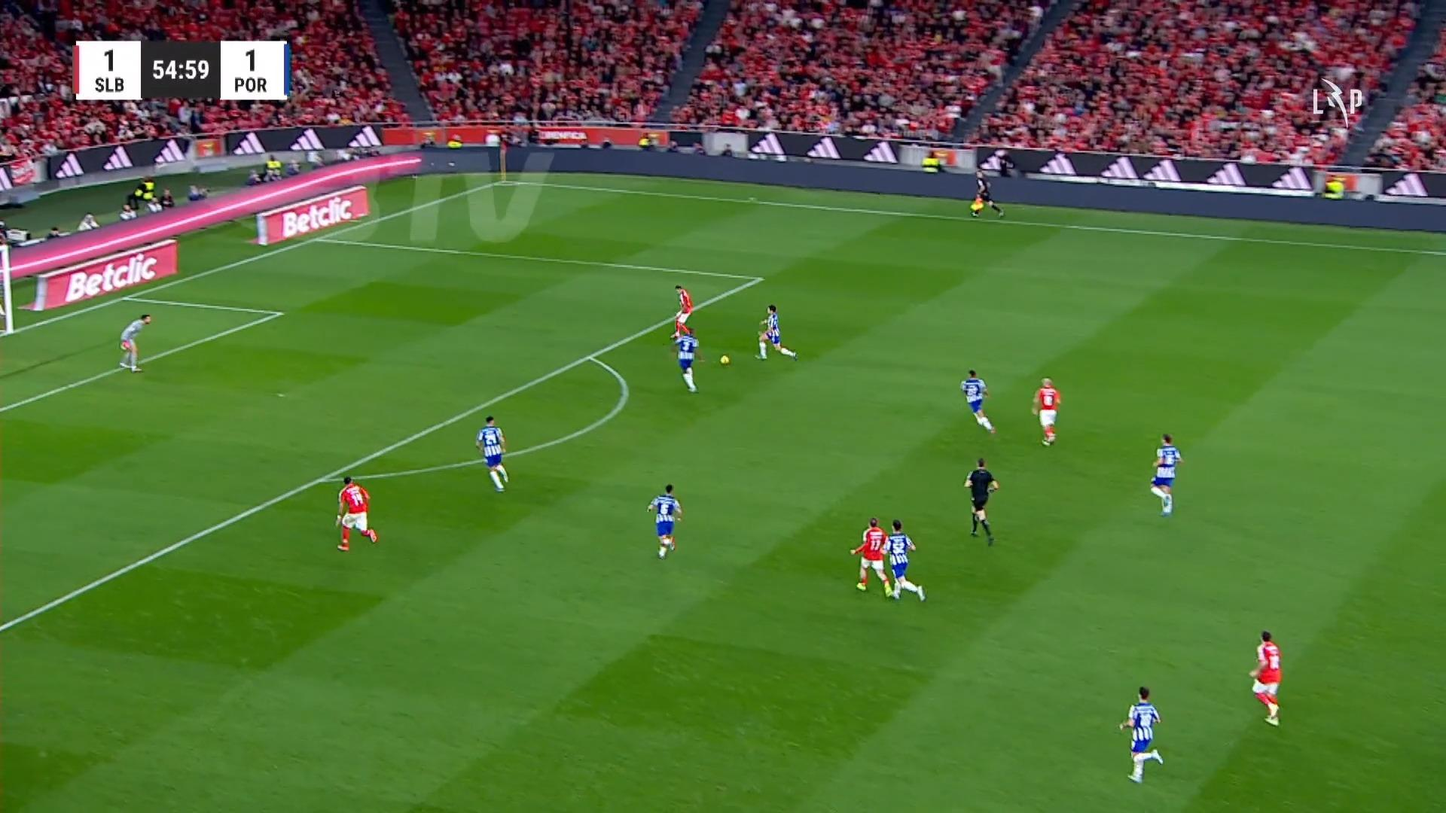ball: (719, 355, 729, 365)
goalkeeper: (117, 312, 151, 372)
player: (1118, 685, 1164, 783), (850, 516, 894, 598), (883, 518, 926, 601), (334, 474, 377, 551), (1248, 629, 1282, 726), (645, 483, 682, 559), (1149, 433, 1182, 516), (475, 414, 508, 492), (755, 303, 798, 360), (959, 368, 996, 434), (670, 325, 704, 392), (1031, 376, 1061, 446), (670, 284, 693, 340)
referee: (963, 457, 999, 546), (969, 169, 1005, 218)
